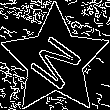M_SE: (23, 27, 88, 94)
